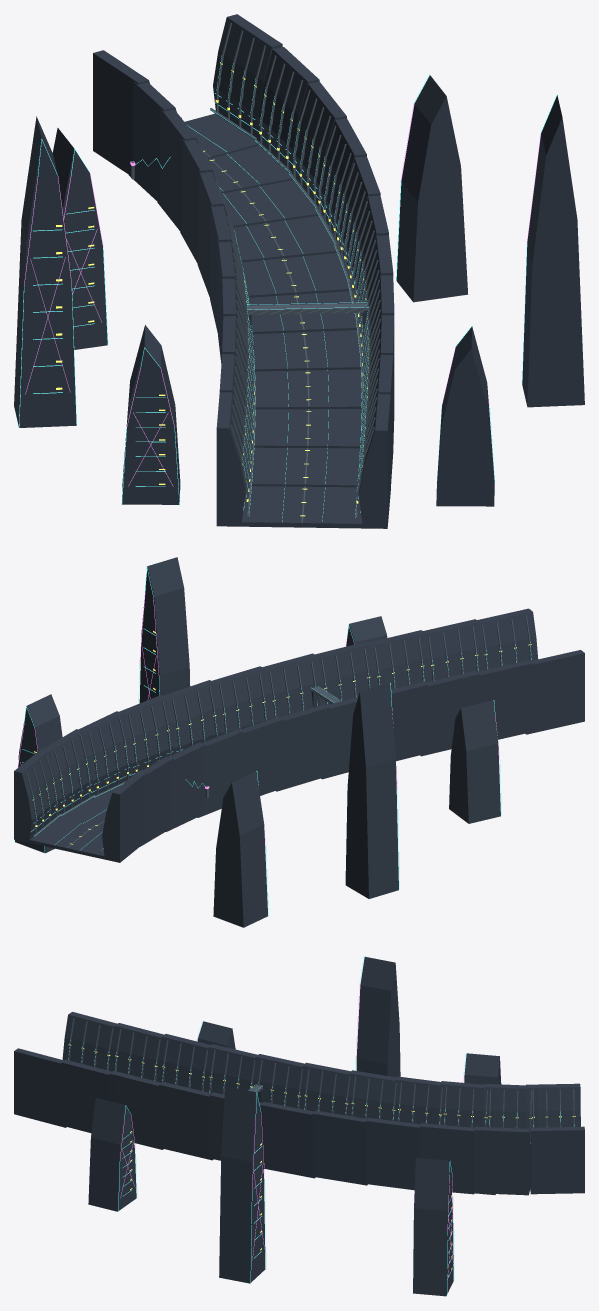
File: route_batch_15.glb
3 views of the same model, one above another, from view 1: azimuth 30°, elevation 25°; view 2: azimuth 150°, elevation 25°; view 3: azimuth 270°, elevation 25° (orthographic). The views are drawn at different scales.
Visible parts, largest first — view 1: route_batch_15; view 2: route_batch_15; view 3: route_batch_15.
Boxes of the visible parts, left/top/right/bottom form: route_batch_15: left=14, top=14, right=584, bottom=528; route_batch_15: left=14, top=557, right=584, bottom=927; route_batch_15: left=14, top=956, right=584, bottom=1296.
Bounding box in the file's own units: 483 × 261 × 706.
